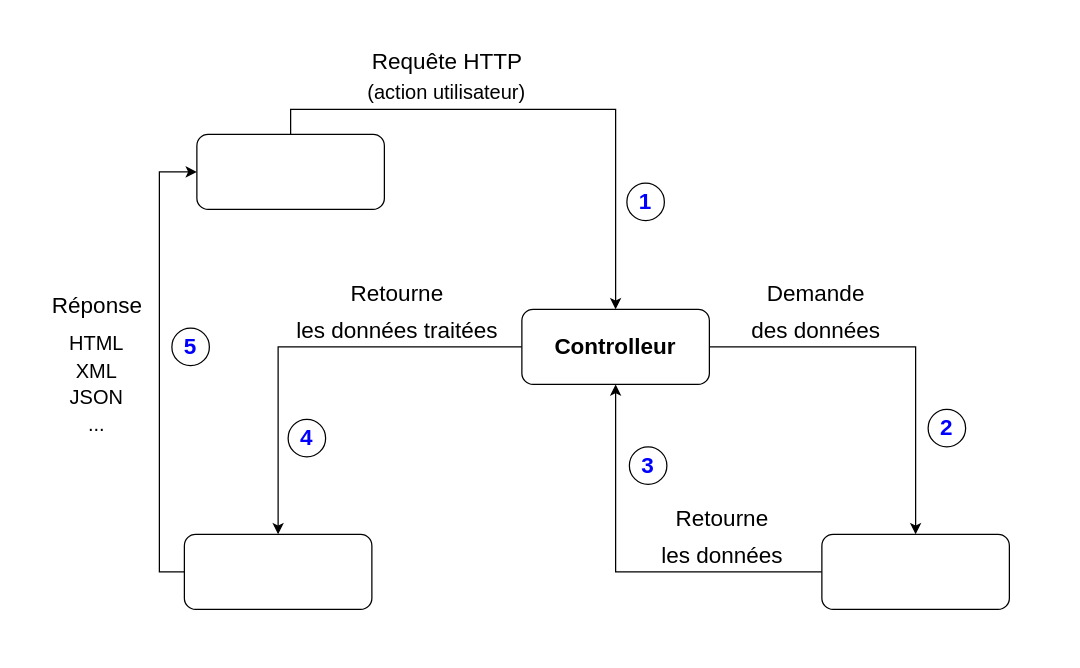
Image size: 1080x668. Some labels were removed from this diagram. The shapes that lost their labels are listed below. From the top down, each one's centre as x and y in pixels, then its label:
At (x=290, y=171): "Navigateur".
At (x=277, y=571): "Vue".
At (x=915, y=571): "Modèle".
